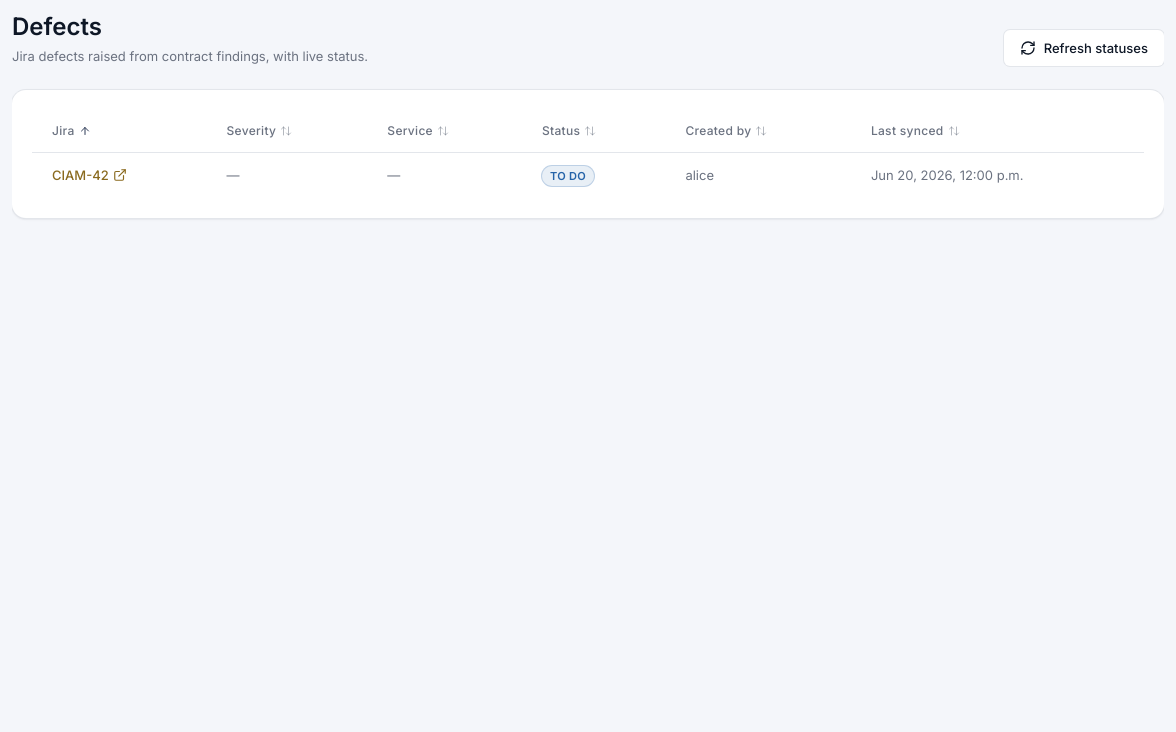
it: Defects page › syncs statuses (POST /defects/sync), refetches, and shows the success toast
Expected: the text "To Do" is shown, [542, 166, 594, 186]
Step 1. Click the button "Refresh statuses" → click(1084, 48), box [1004, 30, 1164, 66]
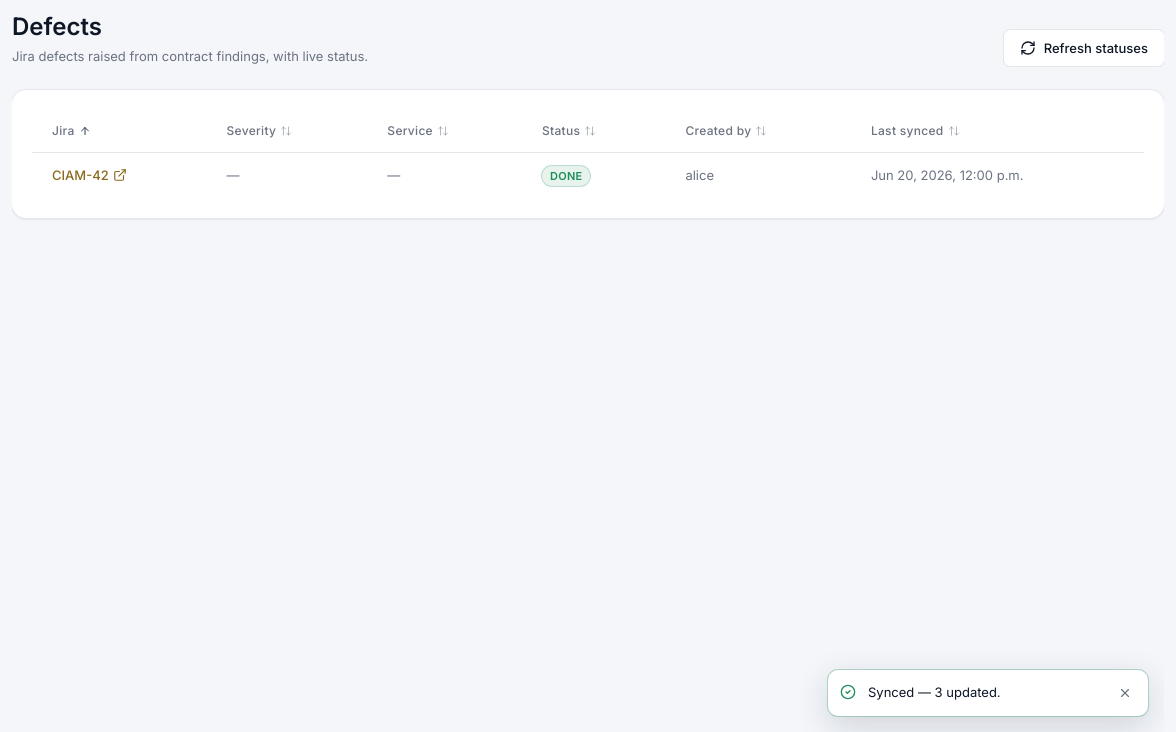
Now the text "Synced — 3 updated." is shown, box [868, 684, 1001, 700]
Now the text "Done" is shown, box [542, 166, 590, 186]
